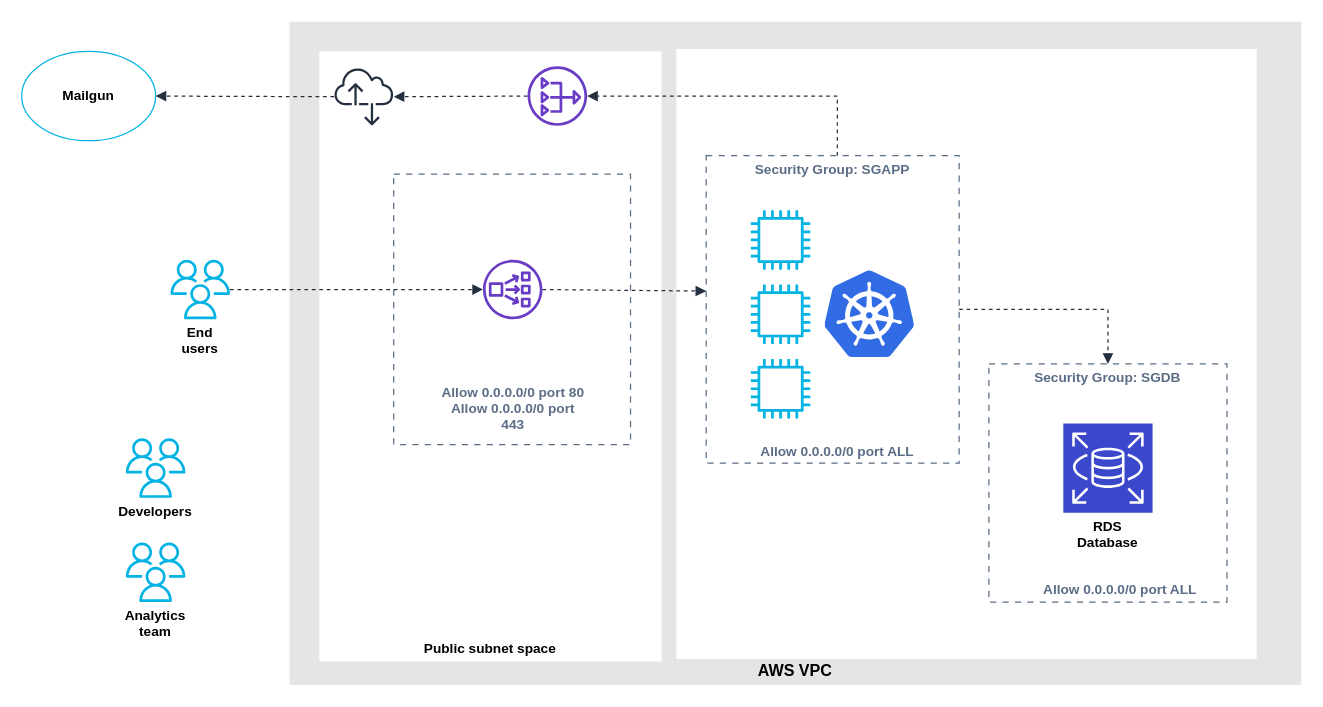
This 1323x707 diagram has some shape labels left out. The box of each missing label's shape, as (x1, y1, x2, y2) in pixels:
External Load Balancer: (482, 259, 542, 319)
Internet Gateway: (334, 67, 393, 125)
Kubernetes: (825, 269, 914, 358)
NAT gateway: (527, 66, 587, 125)
Private subnet space: (675, 48, 1257, 659)
Security Group: SGALB: (392, 173, 631, 445)
